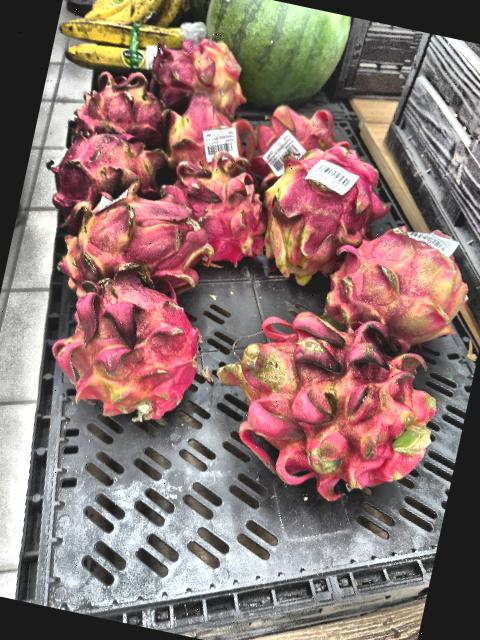buah-naga-belum-matang: (197, 292, 458, 514), (41, 264, 218, 431), (317, 207, 480, 360), (255, 134, 382, 288), (55, 182, 204, 296), (158, 156, 280, 266), (146, 30, 253, 116), (159, 94, 259, 182)
buah-naga-matang: (36, 110, 175, 226), (73, 66, 167, 146)
